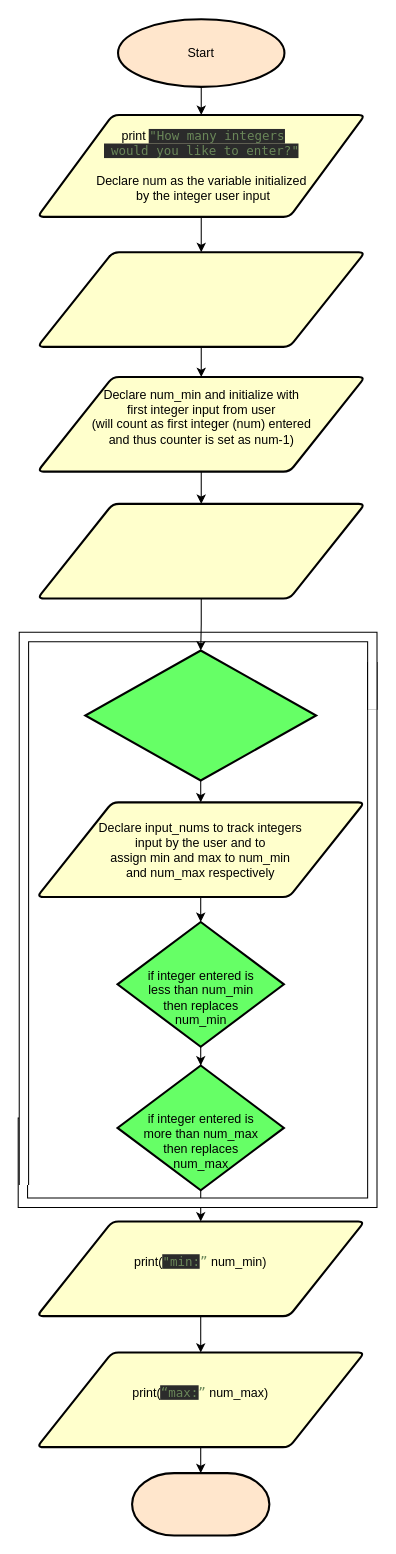
The diagram is 396 pixels wide and 1554 high, and some of its shapes have lost their labels. Here are the shapes that lost their labels. From the top down, the box of each, then its label:
(36, 251, 366, 347): print "Please enter” num "integers." (where num is number of integer user input
(36, 502, 366, 599): Declare num_max and initialize with first num_min value
(84, 649, 317, 781): Set for loop counter to num-1 This assures num integers are entered
(131, 1472, 270, 1536): End
